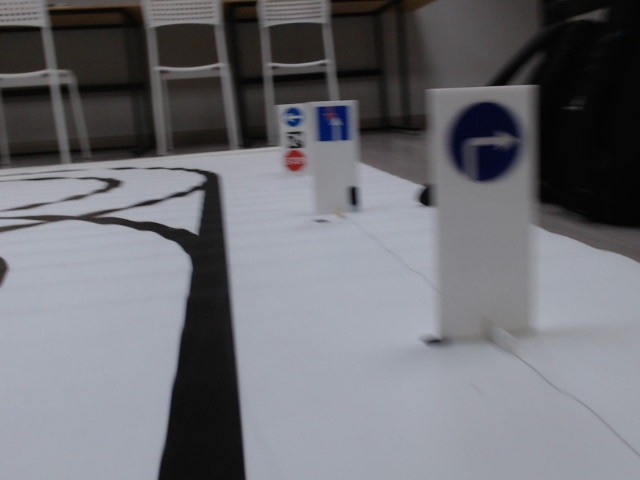Right: (442, 97, 527, 184)
Stop: (284, 149, 305, 170)
priority_movement: (313, 104, 353, 142)
